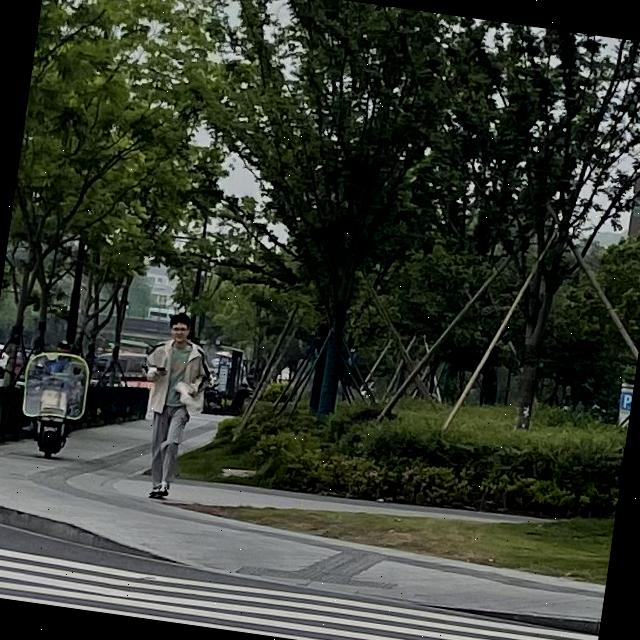curb: (0, 506, 197, 570), (413, 603, 600, 635)
